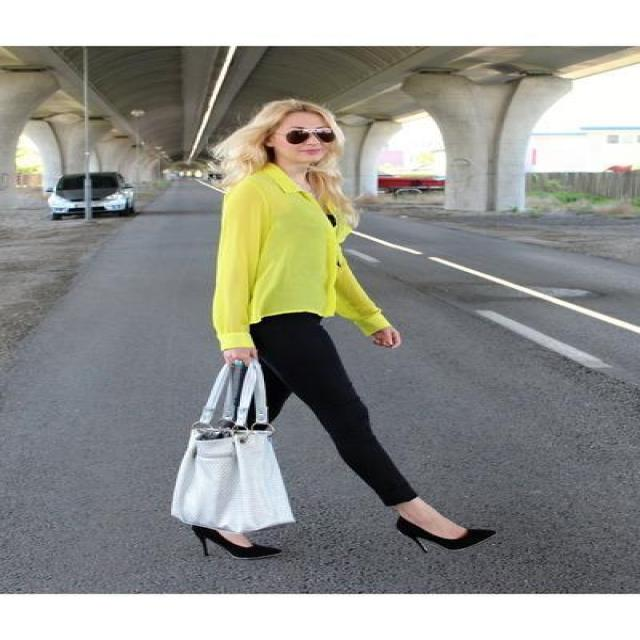bag: (172, 347, 286, 531)
pants: (246, 312, 416, 506)
shirt: (213, 166, 389, 349)
shoe: (192, 516, 494, 559)
sunglass: (288, 130, 336, 144)
